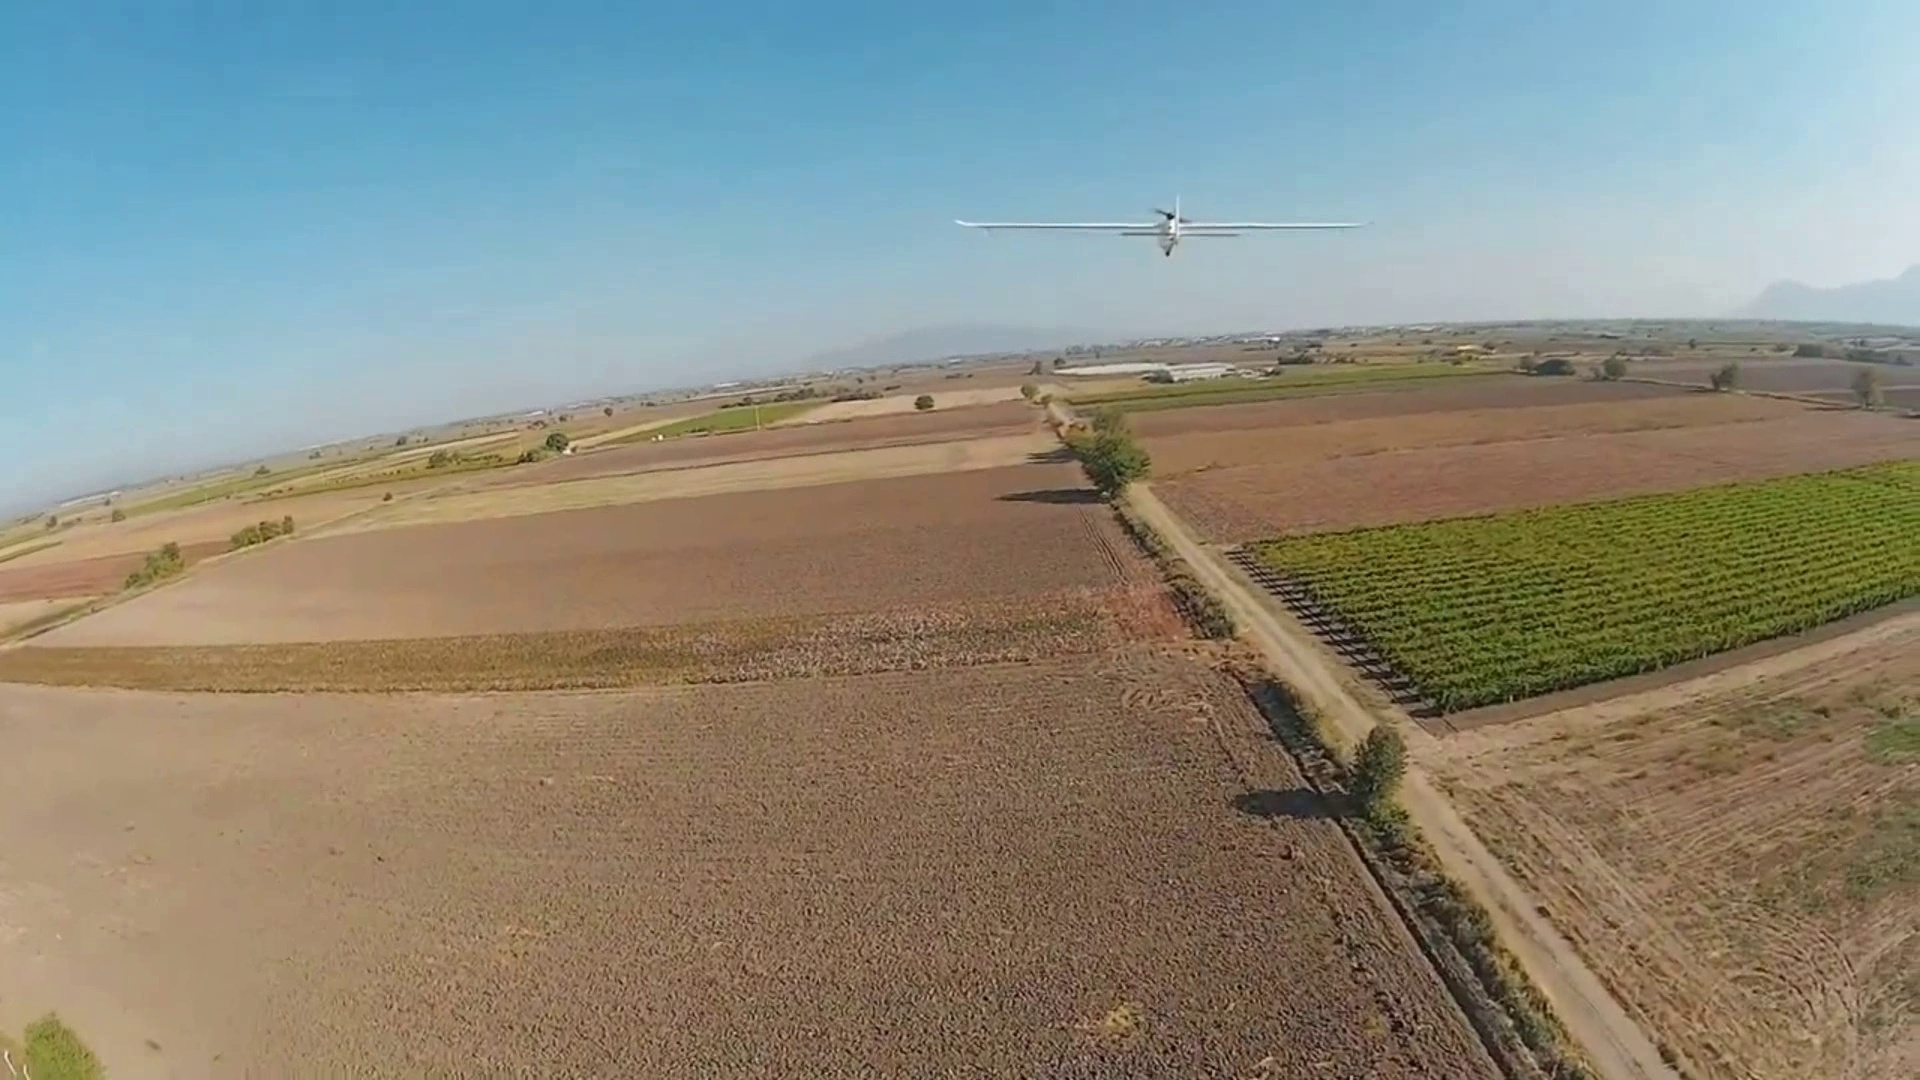airplane: (952, 195, 1367, 252)
